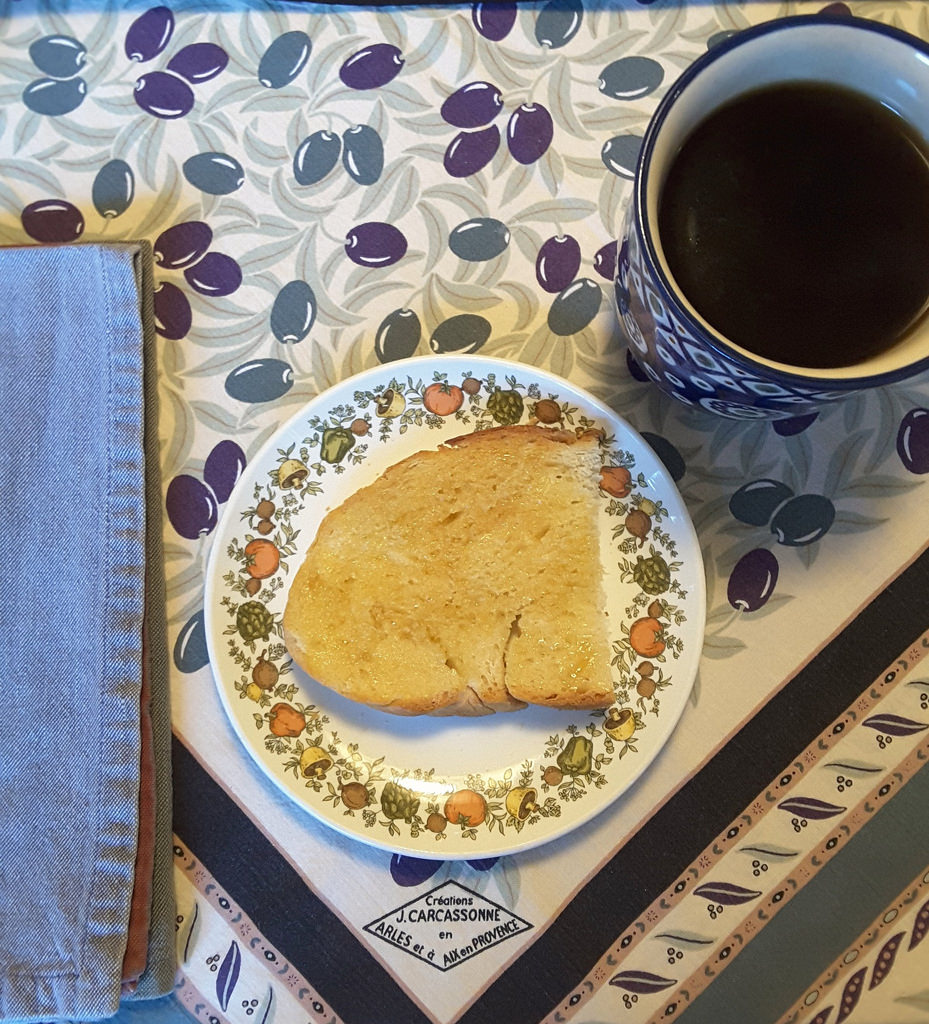slice of bread: (269, 434, 673, 741)
